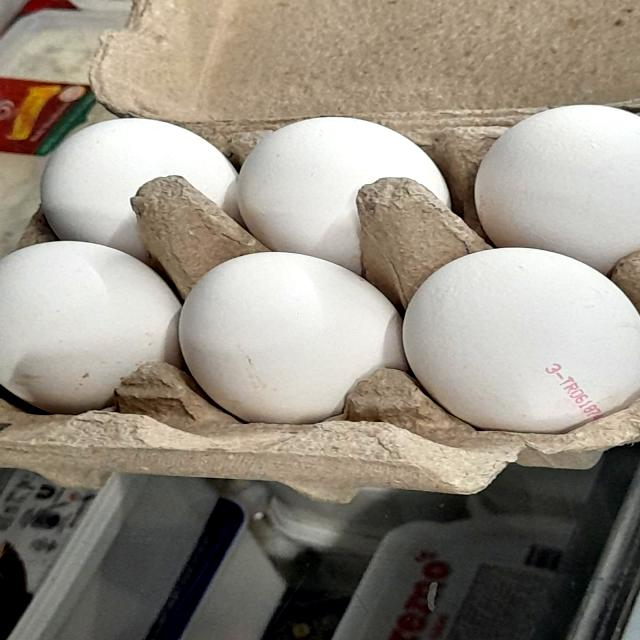egg: (397, 232, 640, 446), (173, 236, 407, 426), (0, 233, 184, 421)
